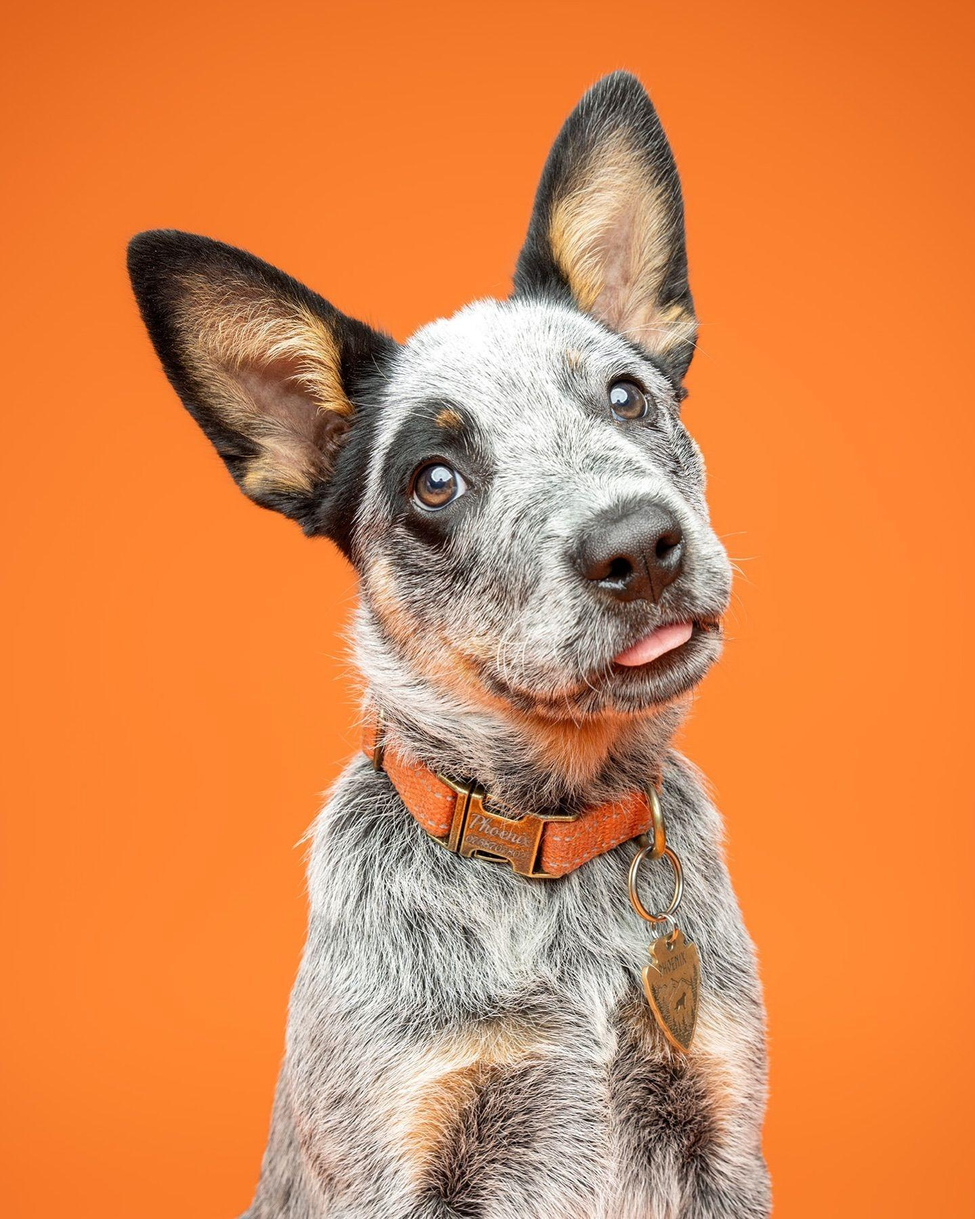puppy-dog: (123, 66, 774, 1219)
